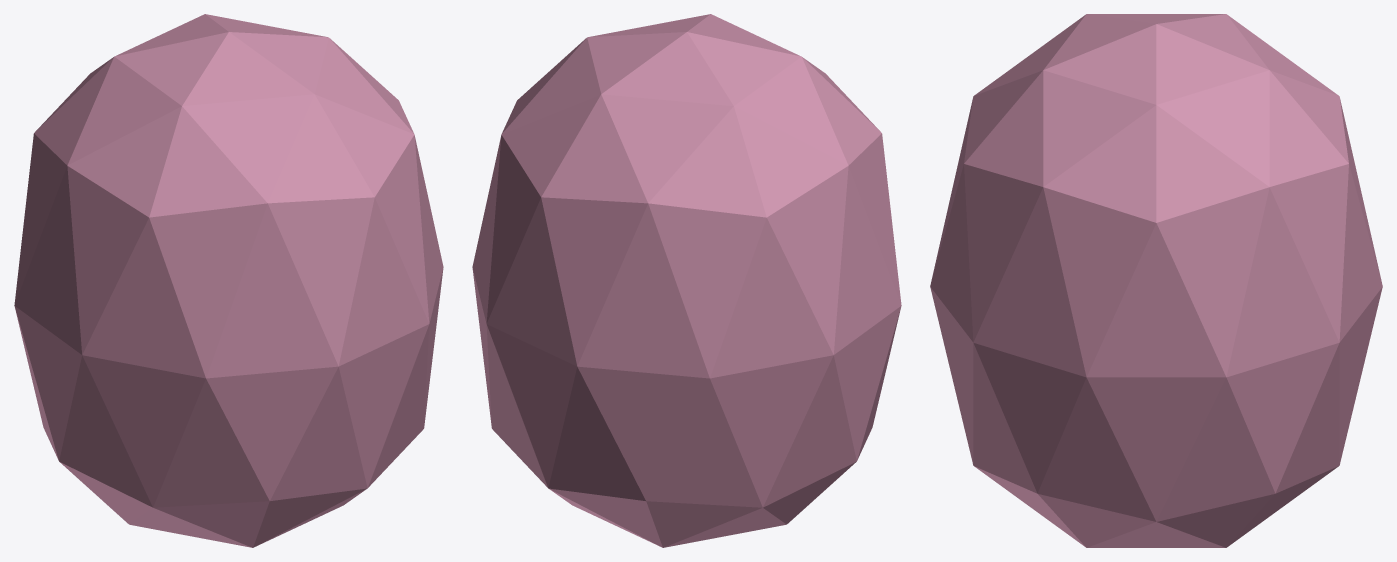
The model's file is worker.obj.
The picture shows the model from 3 angles, left to right: view 1: azimuth 30°, elevation 25°; view 2: azimuth 150°, elevation 25°; view 3: azimuth 270°, elevation 25°; orthographic projection. The views are drawn at different scales.
Visible parts, largest first — view 1: Icosphere; view 2: Icosphere; view 3: Icosphere.
Boxes of the visible parts, x1=… form: Icosphere: x1=14, y1=14, x2=443, y2=547; Icosphere: x1=472, y1=14, x2=901, y2=547; Icosphere: x1=930, y1=14, x2=1382, y2=547.
Bounding box in the file's own units: 1.9 × 2.51 × 2.
